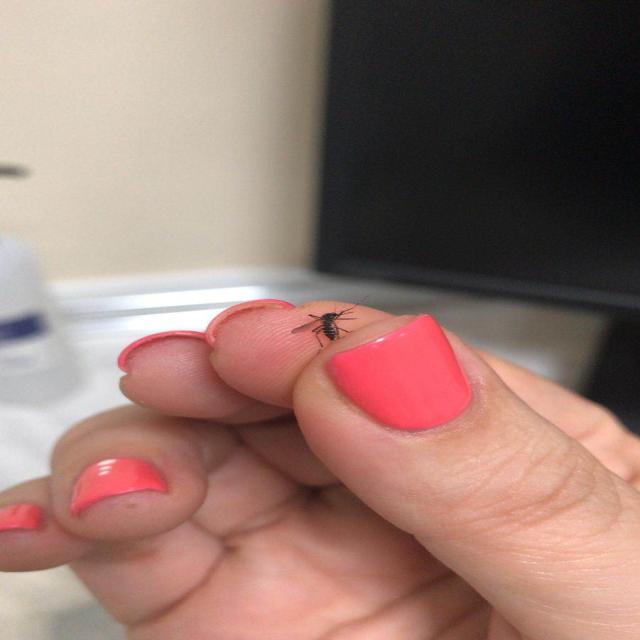albopictus: (284, 296, 368, 351)
